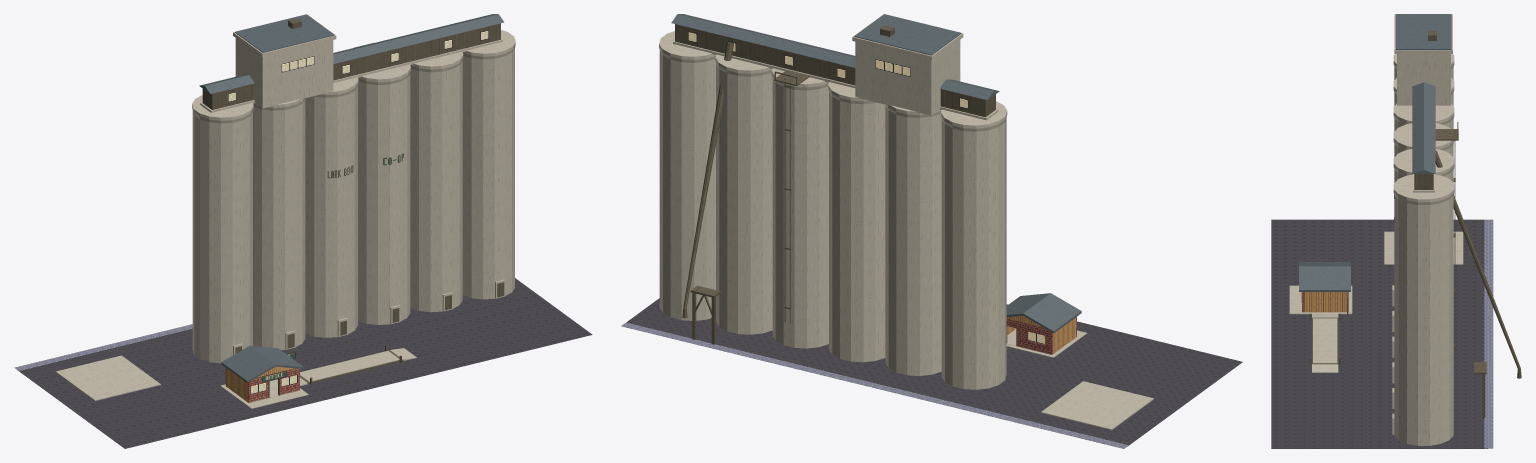
The model's file is lark-bend-1990-mid.glb.
3 renders of one model, left to right at view 1: azimuth 30°, elevation 25°; view 2: azimuth 150°, elevation 25°; view 3: azimuth 270°, elevation 25°, orthographic. The views are drawn at different scales.
Visible parts, largest first — view 1: concrete_elevator, lot, scale_office; view 2: concrete_elevator, lot, scale_office; view 3: lot, concrete_elevator, scale_office.
Boxes of the visible parts, x1=… form: concrete_elevator: x1=192, y1=14, x2=515, y2=363; lot: x1=14, y1=278, x2=592, y2=448; scale_office: x1=221, y1=345, x2=304, y2=402; concrete_elevator: x1=659, y1=14, x2=1007, y2=389; lot: x1=621, y1=298, x2=1242, y2=448; scale_office: x1=1006, y1=293, x2=1081, y2=354; lot: x1=1271, y1=219, x2=1493, y2=448; concrete_elevator: x1=1392, y1=14, x2=1521, y2=445; scale_office: x1=1299, y1=262, x2=1350, y2=312.
Size of what is drawn, in the model's own units: 71 by 44.71 by 32.8.
Materials: 9 (9 with a texture image).
